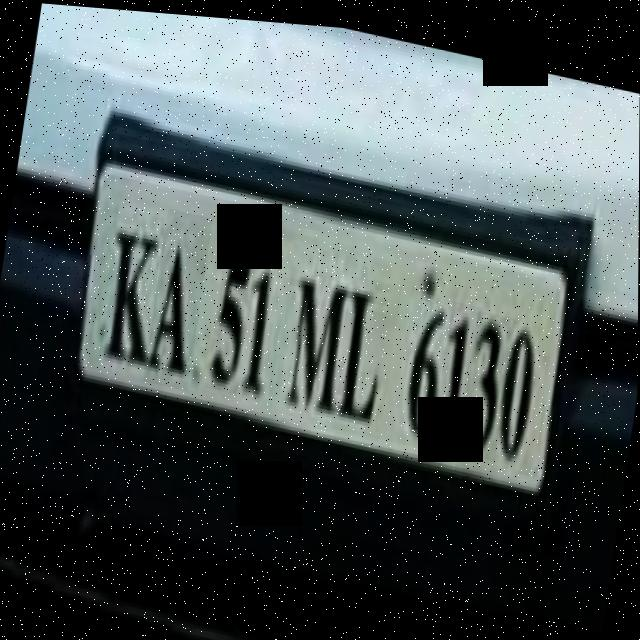0: (493, 299, 550, 461)
1: (231, 234, 289, 404), (431, 292, 482, 454)
3: (455, 301, 516, 474)
5: (206, 238, 259, 392)
A: (143, 204, 213, 389)
K: (92, 195, 173, 378)
L: (332, 269, 403, 434)
M: (277, 250, 358, 425)
